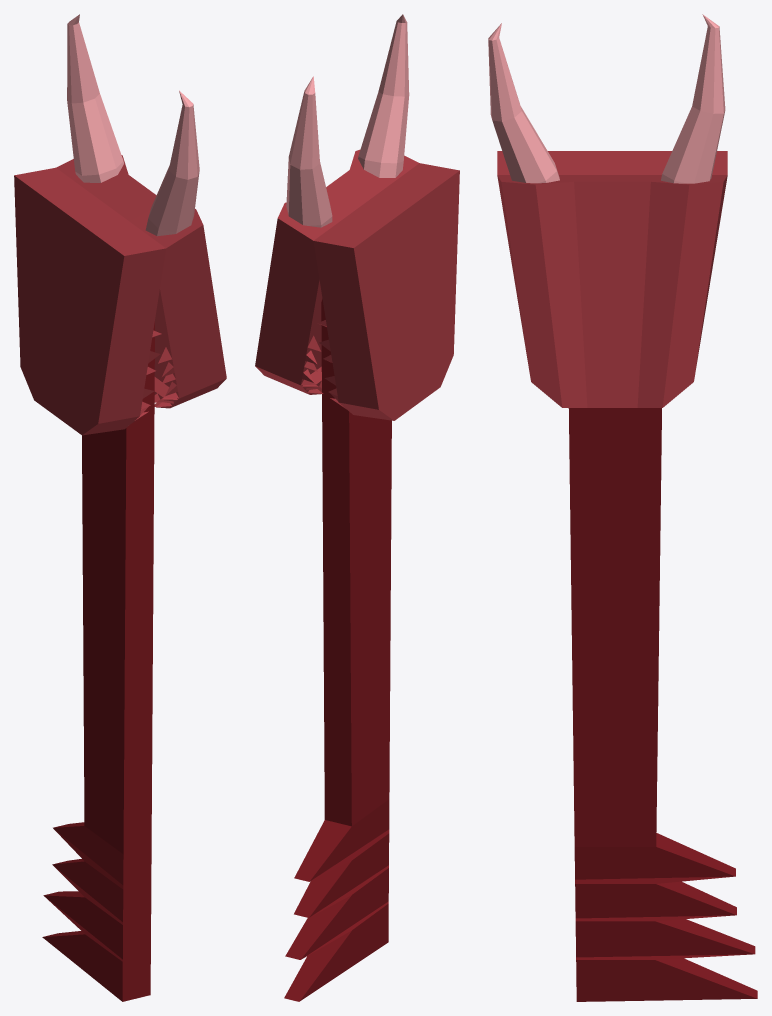
The model's file is ExitKey.fbx.
The picture shows the model from 3 angles, left to right: view 1: azimuth 30°, elevation 25°; view 2: azimuth 150°, elevation 25°; view 3: azimuth 270°, elevation 25°; orthographic projection. The views are drawn at different scales.
Visible parts, largest first — view 1: Cube.003, Cube.002, Cylinder.005, Cylinder.004; view 2: Cube.002, Cube.003, Cylinder.004, Cylinder.005; view 3: Cube.002, Cube.003, Cylinder.005, Cylinder.004.
Part boxes in pixels (left/top/right/bottom): Cube.003: left=14, top=155, right=226, bottom=435; Cube.002: left=42, top=321, right=154, bottom=1001; Cylinder.005: left=67, top=14, right=123, bottom=182; Cylinder.004: left=145, top=90, right=199, bottom=236; Cube.002: left=284, top=299, right=391, bottom=1001; Cube.003: left=255, top=149, right=459, bottom=420; Cylinder.004: left=358, top=14, right=409, bottom=177; Cylinder.005: left=286, top=76, right=332, bottom=227; Cube.002: left=568, top=408, right=757, bottom=1001; Cube.003: left=497, top=151, right=727, bottom=407; Cylinder.005: left=661, top=14, right=725, bottom=183; Cylinder.004: left=488, top=23, right=559, bottom=183.
Bounding box in the file's own units: 0.1588 × 0.2623 × 1.05.
